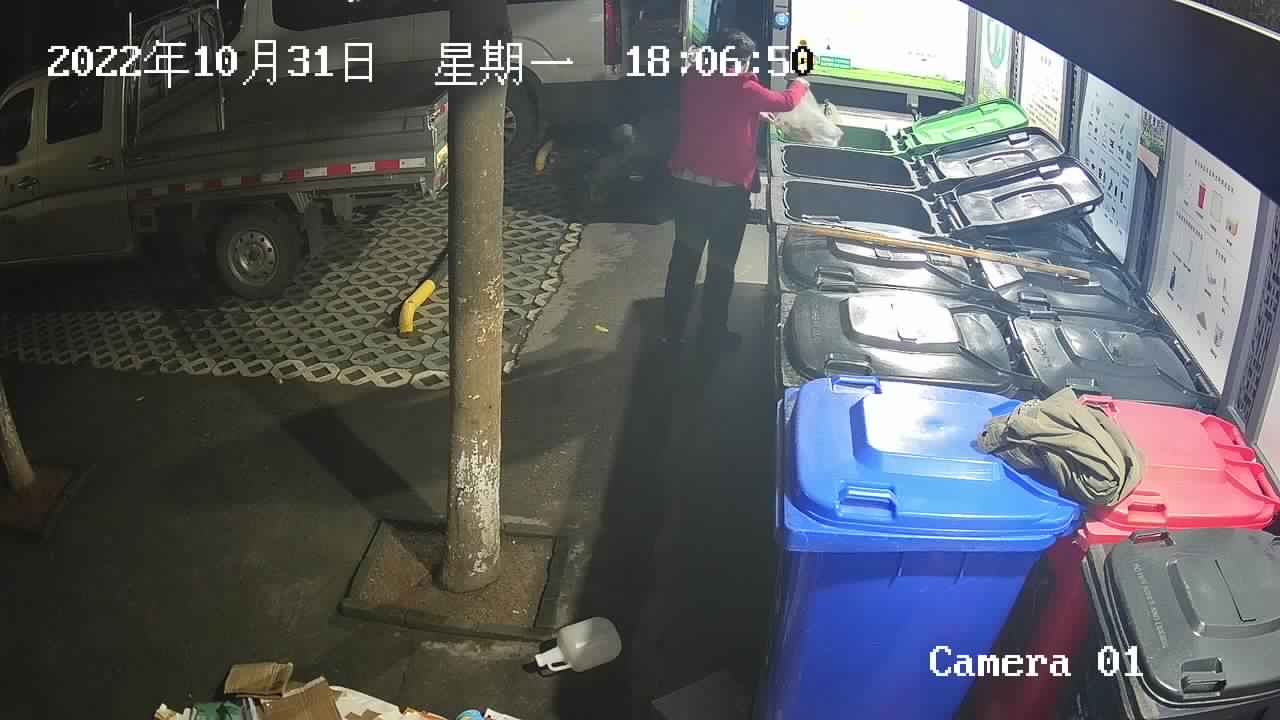garbage-bag: (533, 615, 623, 680), (775, 81, 843, 148)
person: (657, 29, 810, 354)
zhizhipin: (152, 675, 531, 720), (223, 659, 293, 700)
